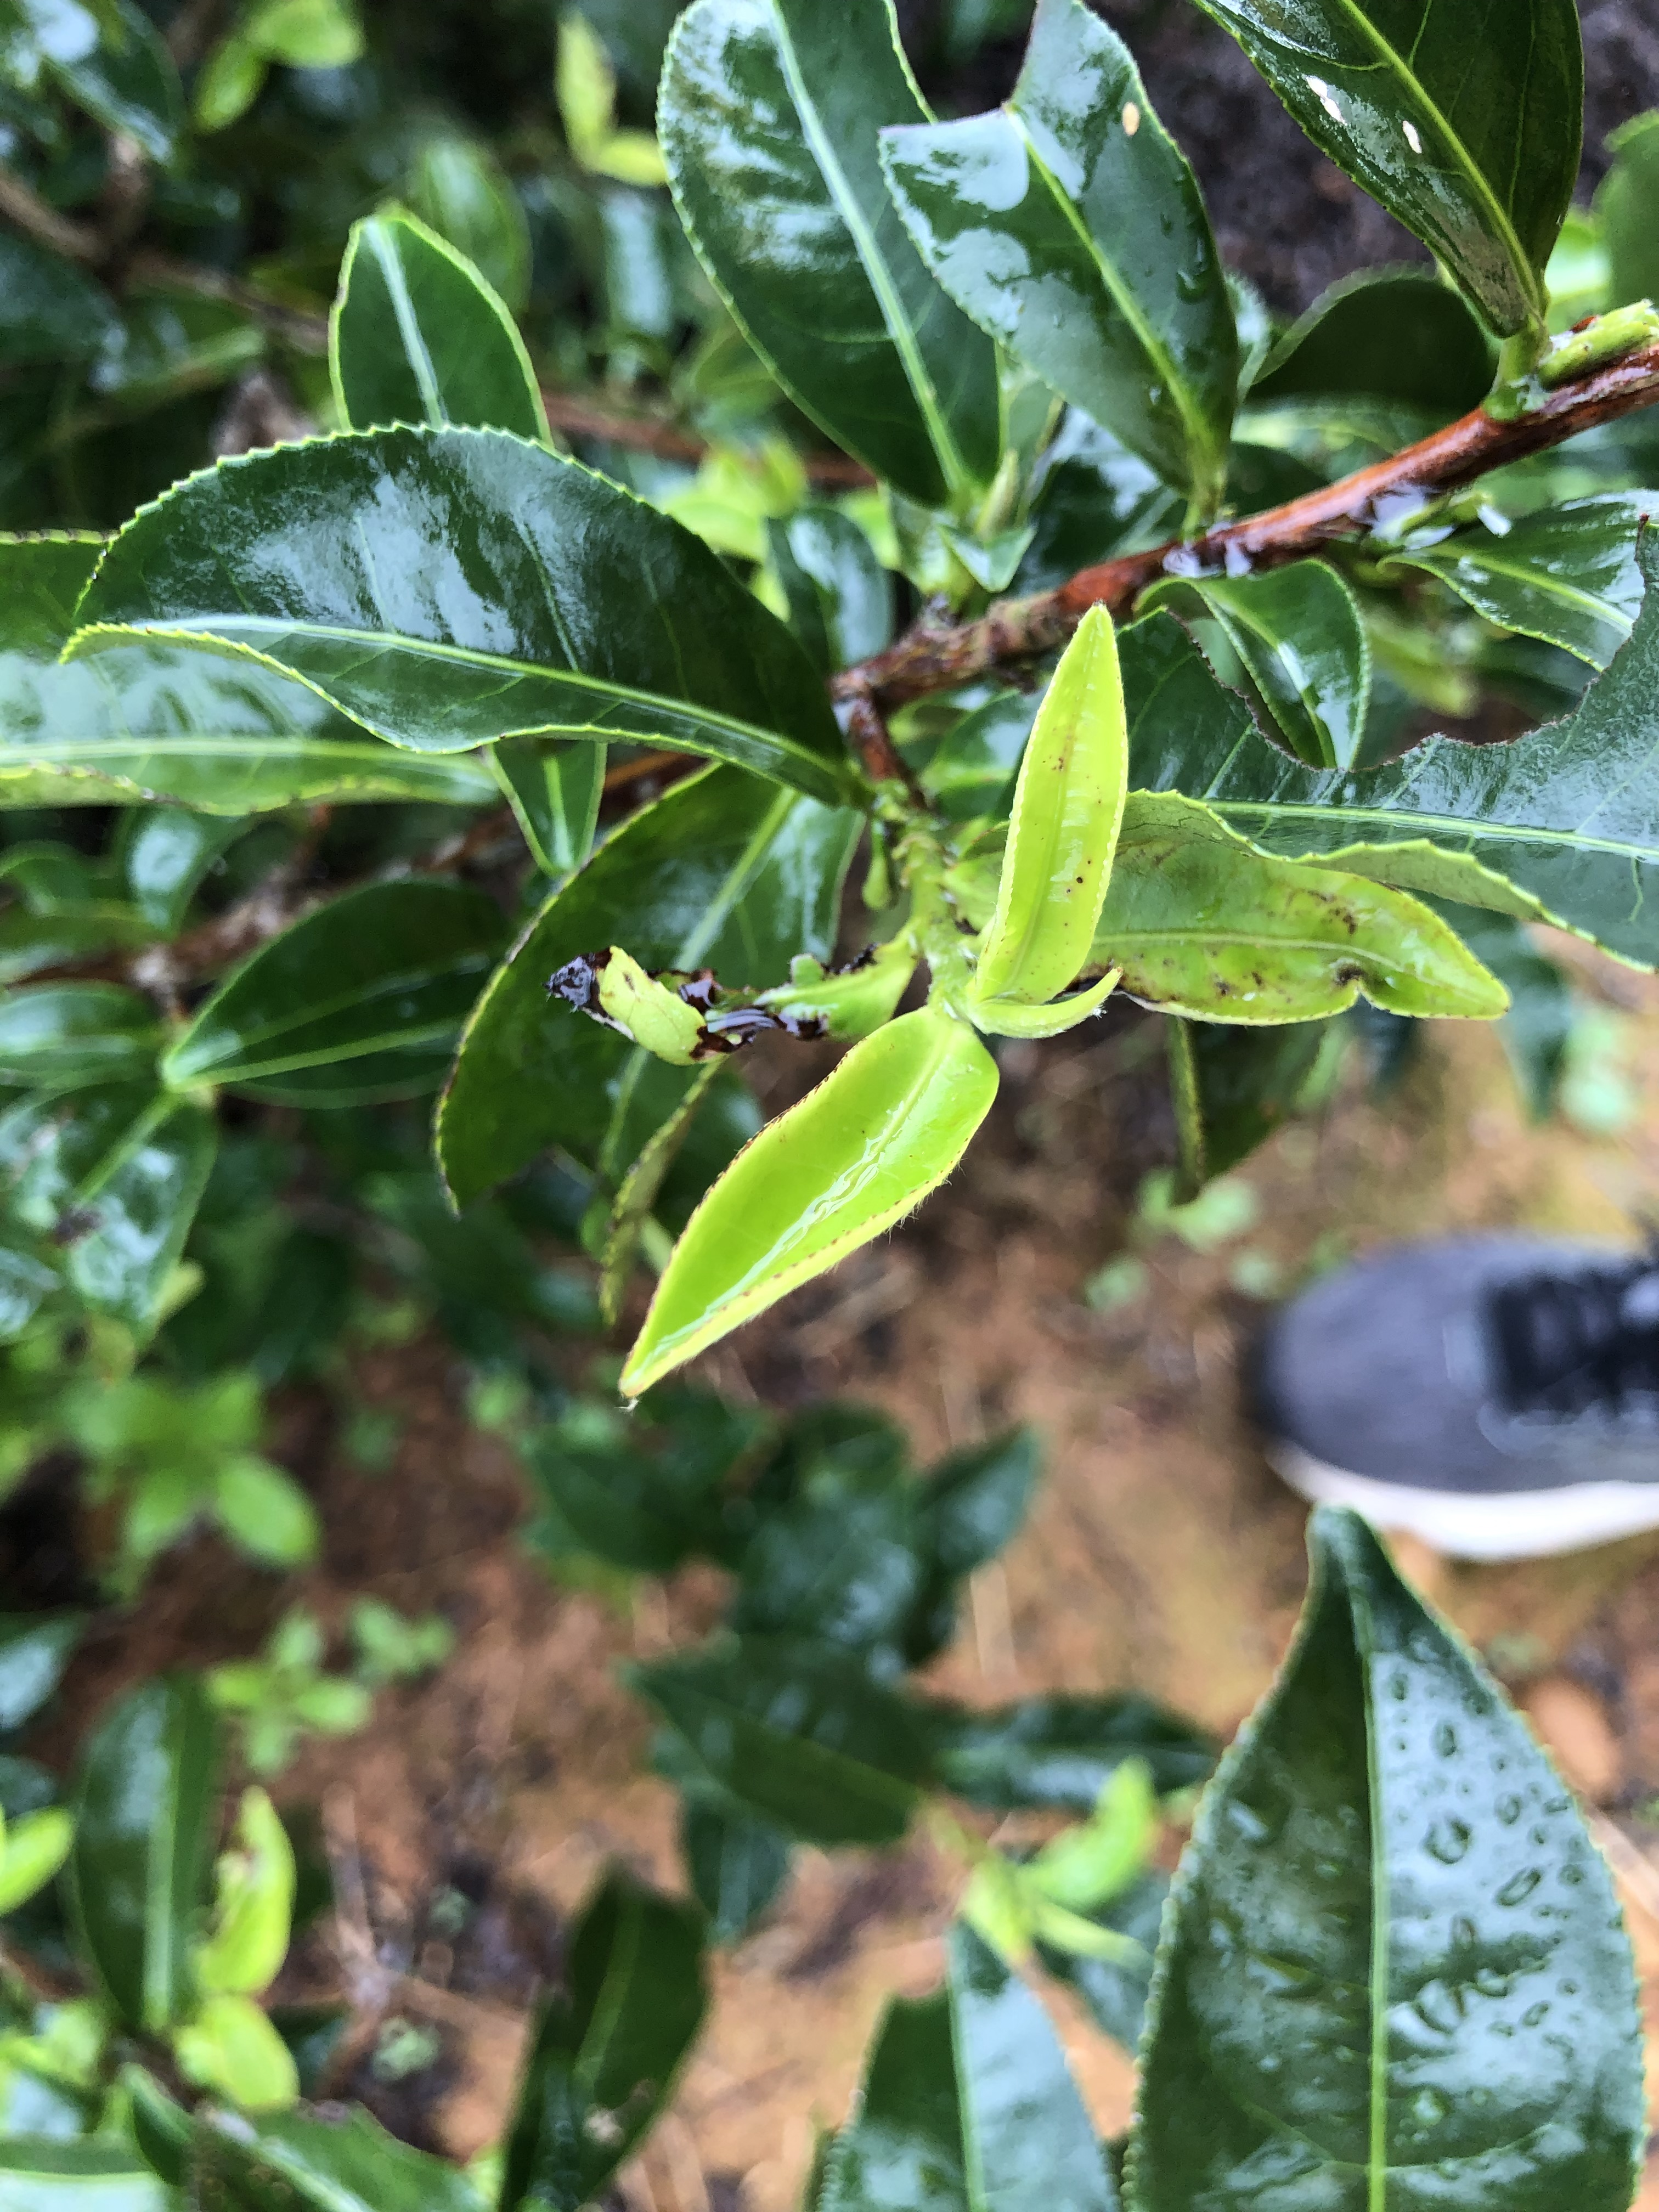formosa: (972, 606, 1138, 1015)
mosquito_early: (1100, 836, 1499, 1021)
mosquito_late: (570, 935, 775, 1059)
other: (878, 49, 1237, 465)
